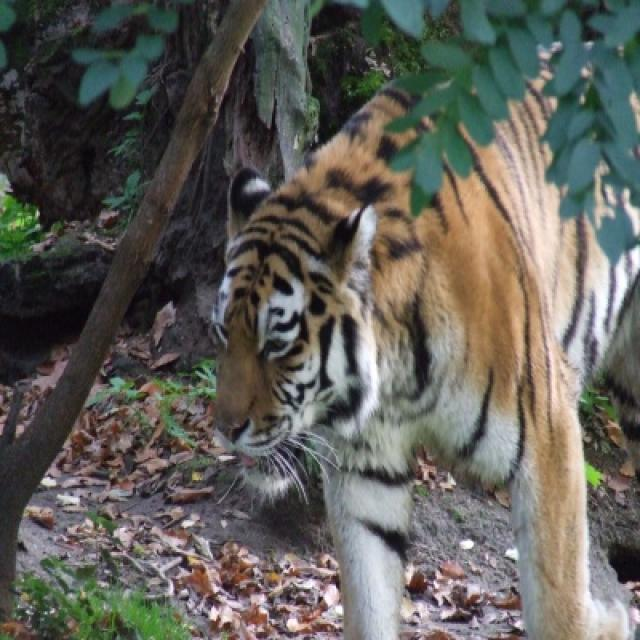Tiger: (203, 21, 636, 638)
